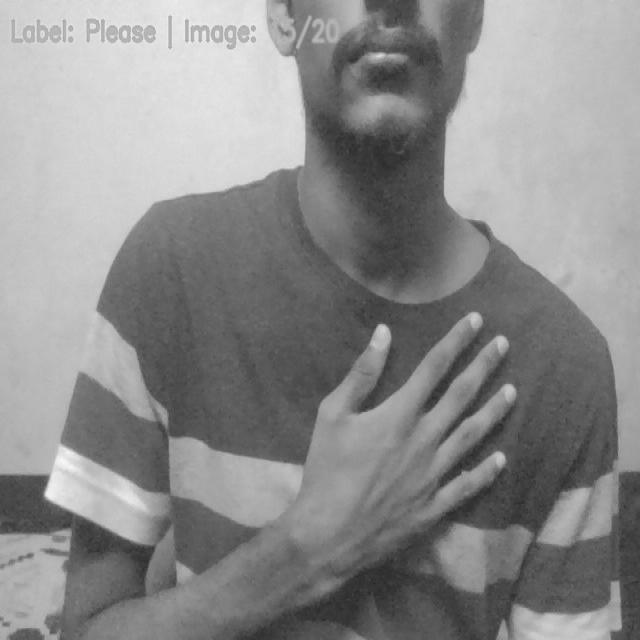Please: (266, 316, 514, 609)
